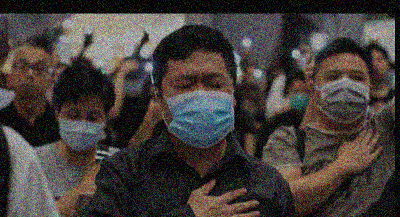with_mask: (162, 68, 233, 146), (313, 63, 371, 126), (57, 104, 106, 153), (125, 76, 147, 98), (290, 84, 309, 109)
without_mask: (12, 55, 50, 98), (369, 52, 389, 83)
